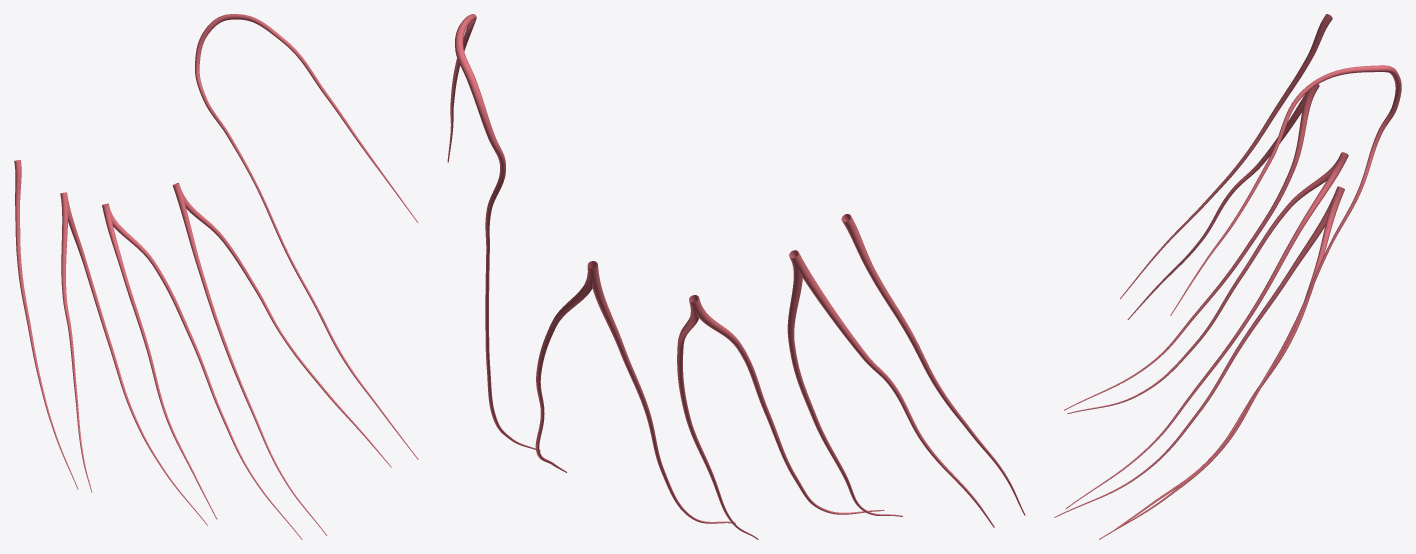
3 views of the same model, side by side, from view 1: azimuth 30°, elevation 25°; view 2: azimuth 150°, elevation 25°; view 3: azimuth 270°, elevation 25° (orthographic). The views are drawn at different scales.
Parts seen in each view (by area): view 1: ZA_6fc05fab2cd6527c; view 2: ZA_6fc05fab2cd6527c; view 3: ZA_6fc05fab2cd6527c.
Boxes of the visible parts, box(x1,y1,x2,y2) form: ZA_6fc05fab2cd6527c: box(14, 14, 418, 539); ZA_6fc05fab2cd6527c: box(447, 14, 1025, 539); ZA_6fc05fab2cd6527c: box(1054, 14, 1401, 539).
Size of the model in its own units: 0.1029 by 0.111 by 0.0723.
